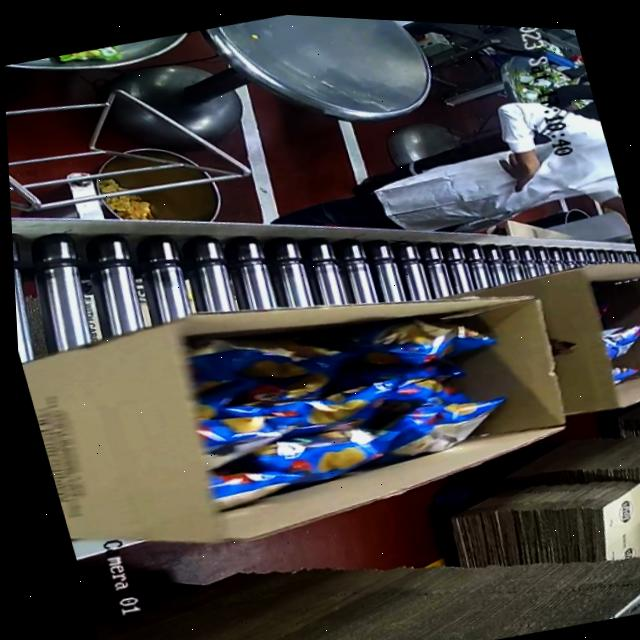PAPRIKA: (164, 283, 524, 522)
